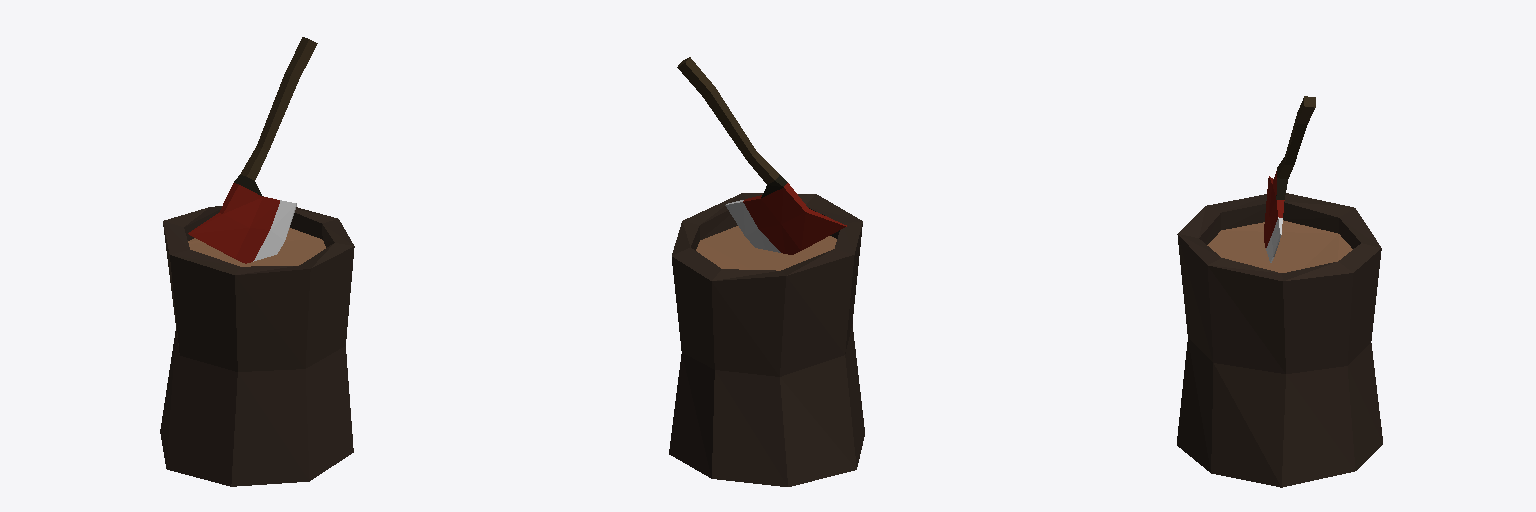
Rendered from Log.obj.
3 views of the same model, side by side, from view 1: azimuth 30°, elevation 25°; view 2: azimuth 150°, elevation 25°; view 3: azimuth 270°, elevation 25° (orthographic).
Visible parts, largest first — view 1: Cube.013_Cube.011; view 2: Cube.013_Cube.011; view 3: Cube.013_Cube.011.
Boxes of the visible parts, box(x1,y1,x2,y2) form: Cube.013_Cube.011: box(160, 37, 354, 486); Cube.013_Cube.011: box(669, 57, 864, 486); Cube.013_Cube.011: box(1177, 96, 1382, 487).
Size of the model in its own units: 0.3641 by 0.7486 by 0.3658.